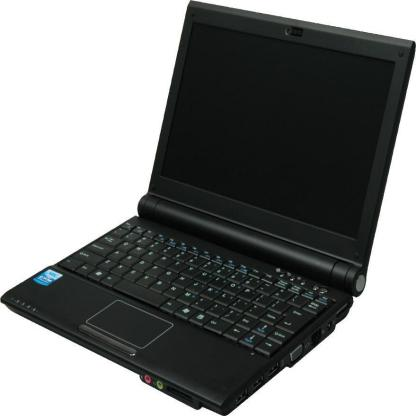board: (10, 0, 412, 408)
